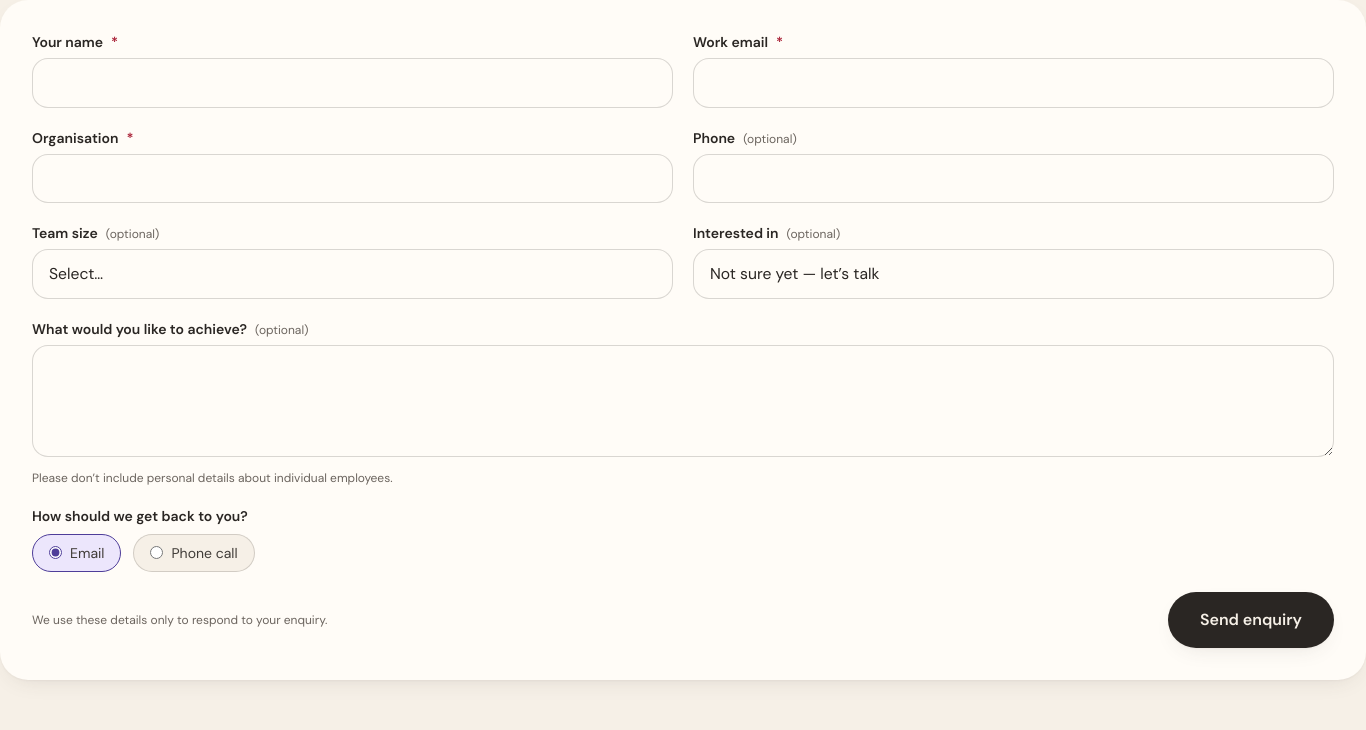
Scenario: EnquiryForm › shows validation errors on empty submit and does not send
Click the button "Send enquiry": click(1251, 620) 1168,592 -> 1334,648
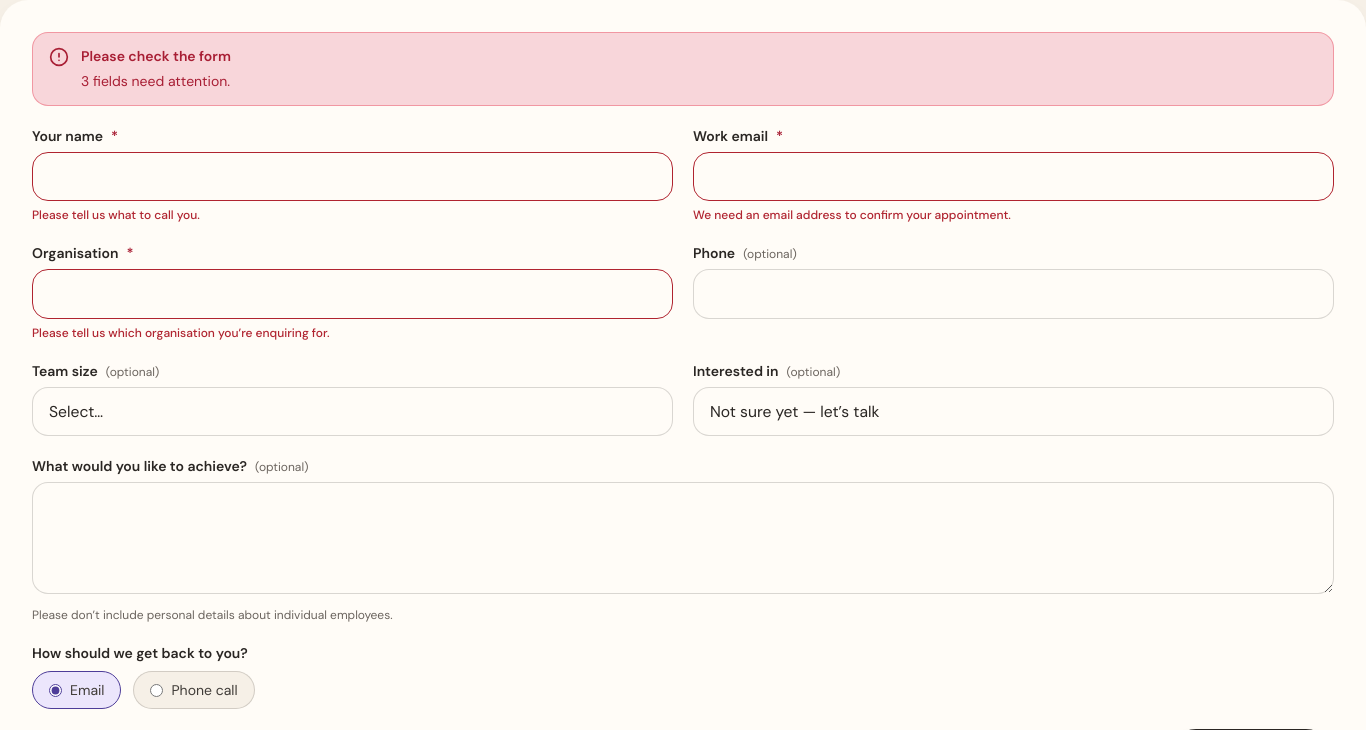
Expected: the text "Please check the form" is shown, 81,45 -> 231,68
Expected: the text "Please tell us what to call you." is shown, 32,207 -> 200,223
Expected: the text "Please tell us which organisation you’re enquiring for." is shown, 32,324 -> 330,340
